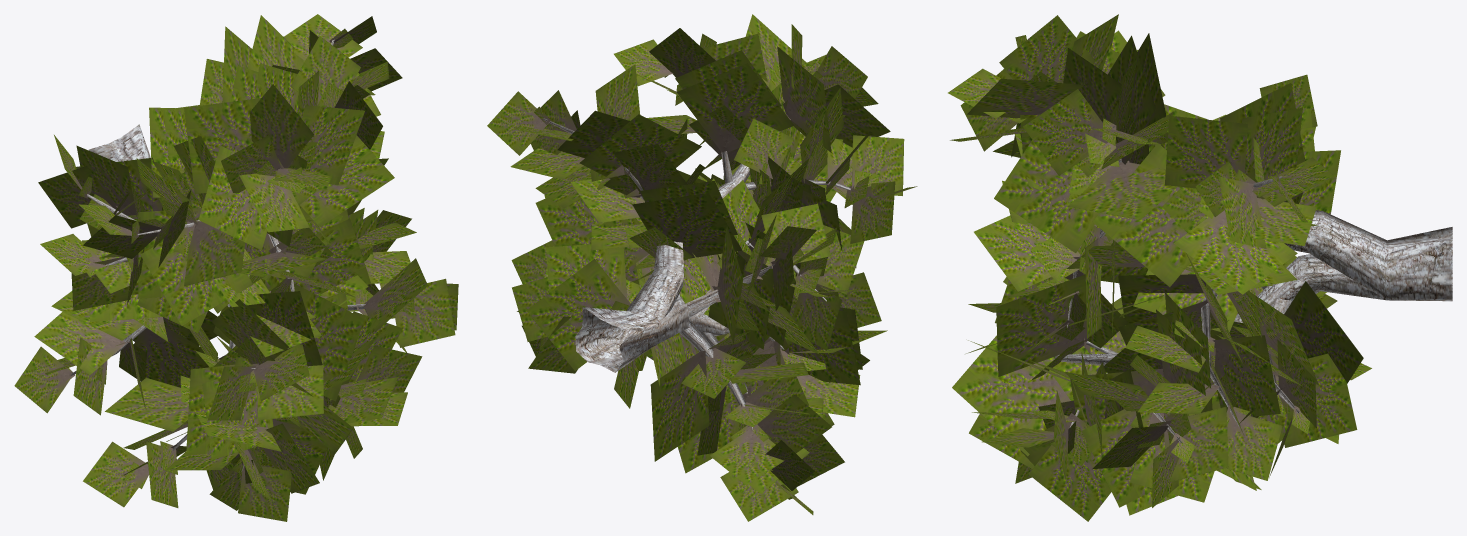
The model's file is tree-0.gltf.
3 views of the same model, side by side, from view 1: azimuth 30°, elevation 25°; view 2: azimuth 150°, elevation 25°; view 3: azimuth 270°, elevation 25° (orthographic). The views are drawn at different scales.
Parts seen in each view (by area): view 1: tree.026; view 2: tree.026; view 3: tree.026.
Part boxes in pixels (x1=…): tree.026: x1=14, y1=14, x2=458, y2=521; tree.026: x1=487, y1=14, x2=917, y2=521; tree.026: x1=948, y1=14, x2=1452, y2=521.
Bounding box in the file's own units: 9.83 × 10.94 × 9.97.
Materials: 1 (1 with a texture image).
